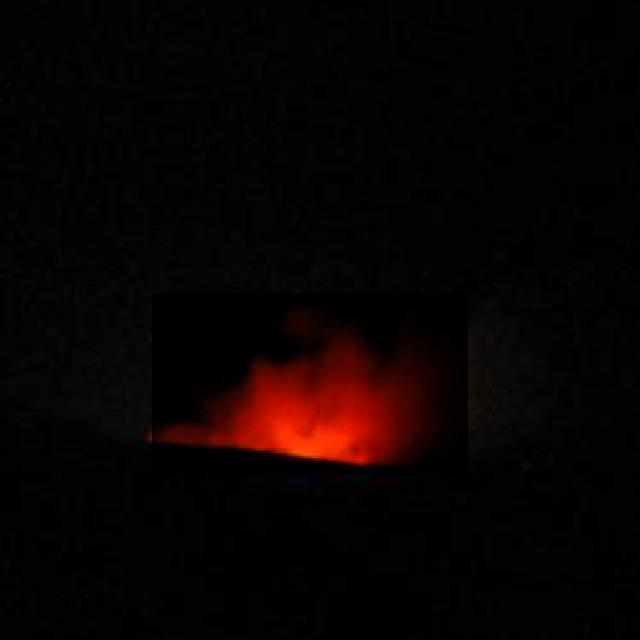Smoke: (152, 293, 468, 474)
